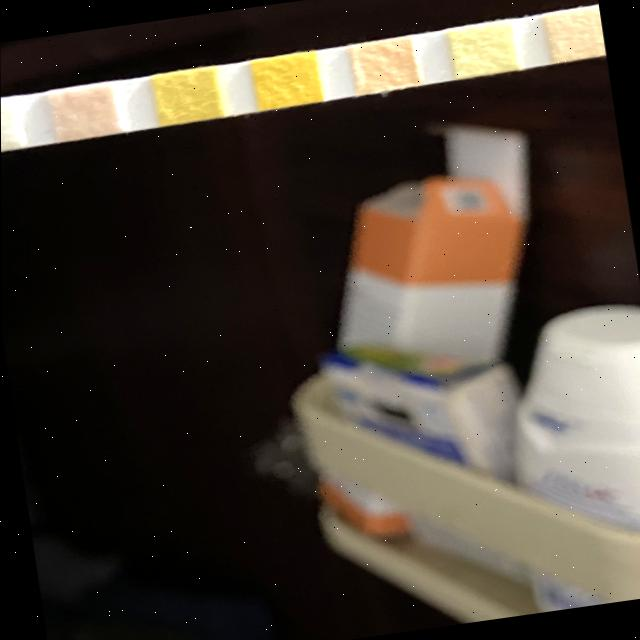Bilirubin: (1, 99, 20, 153)
Blood: (250, 50, 319, 109)
Ketone: (49, 82, 121, 142)
Protein: (449, 19, 519, 79)
SpGravity: (156, 68, 224, 125)
Urobilinogen: (546, 6, 606, 61)
pH: (353, 37, 420, 93)
